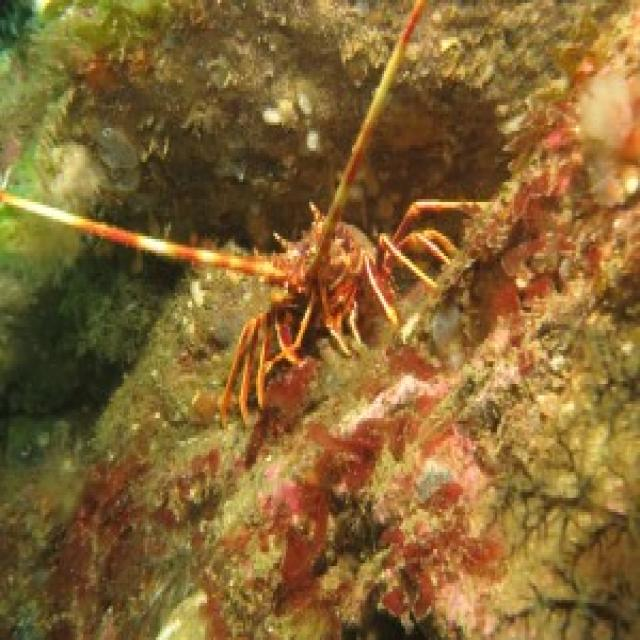lobsters: (90, 114, 530, 439)
